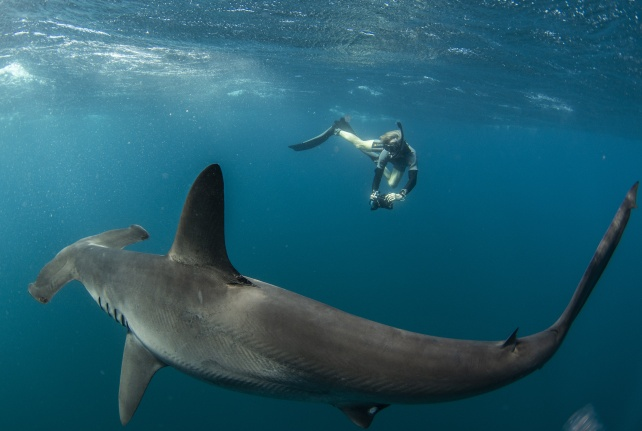Hammer: (23, 158, 642, 421)
